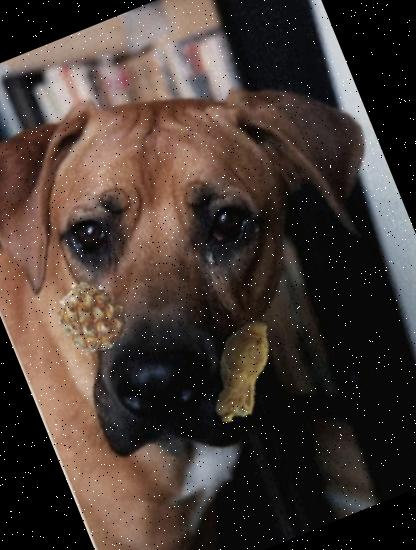Ginger: (170, 300, 312, 442)
Pineapple: (43, 269, 139, 365)
